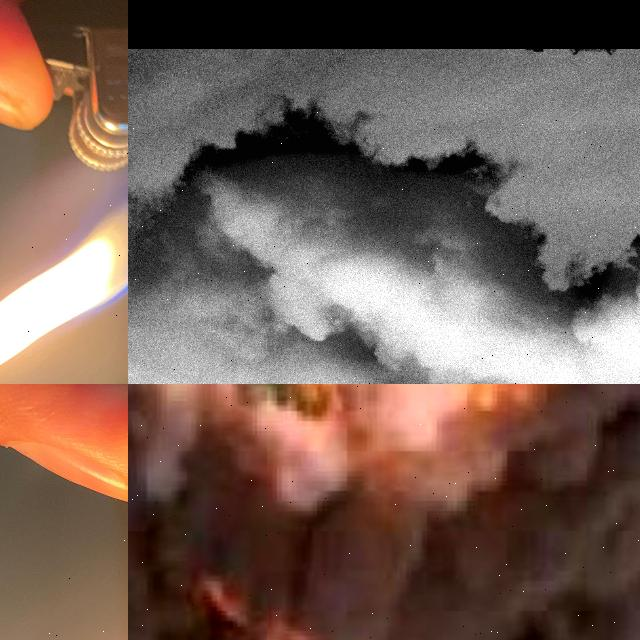fire: (0, 201, 128, 364)
smoke: (128, 112, 640, 384), (128, 384, 640, 640)
